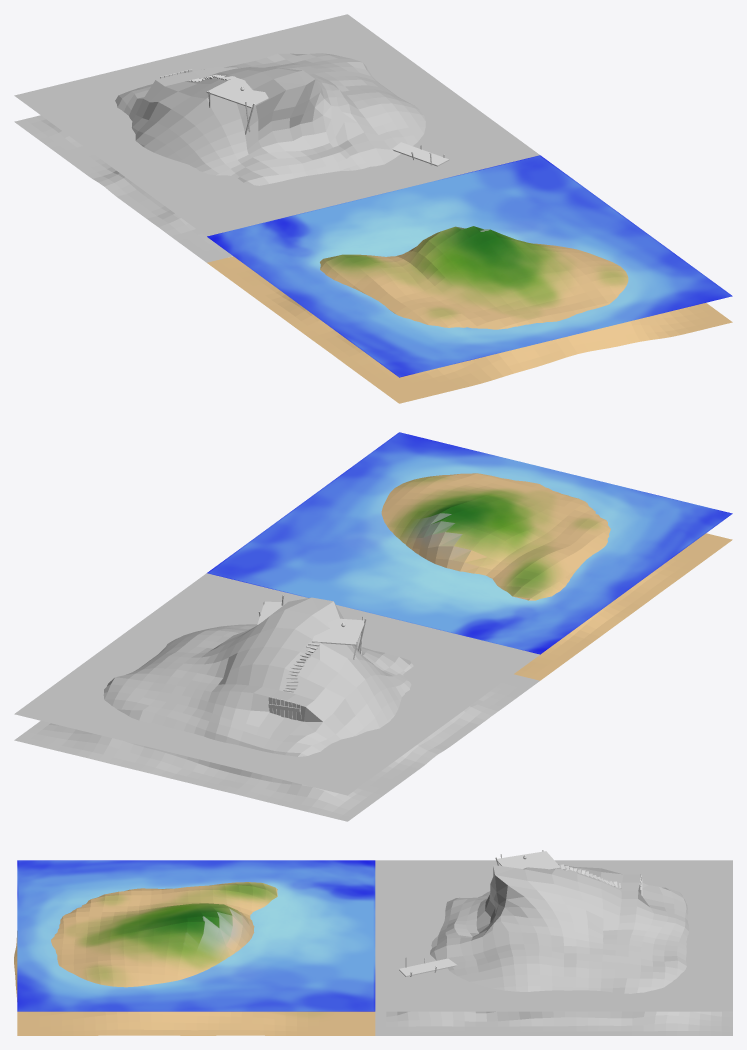
The model's file is islands_v3.fbx.
The picture shows the model from 3 angles, top to bottom: view 1: azimuth 30°, elevation 25°; view 2: azimuth 150°, elevation 25°; view 3: azimuth 270°, elevation 25°; orthographic projection. The views are drawn at different scales.
Parts seen in each view (by area): view 1: water2, water1, island_2, island_1, lookout deck; view 2: water2, island_1, water1, island_2, lookout deck; view 3: water2, island_1, water1, island_2, lookout deck, dock.
Part boxes in pixels (x1,y1,x2,y2): water2: (207,155,732,377); water1: (14,14,539,236); island_2: (207,226,732,403); island_1: (14,53,425,262); lookout deck: (206,77,268,107); water2: (207,432,732,654); island_1: (14,597,539,821); water1: (14,573,539,795); island_2: (381,473,732,680); lookout deck: (312,618,364,645); water2: (17,860,375,1011); island_1: (375,864,732,1035); water1: (375,860,732,1011); island_2: (14,882,375,1035); lookout deck: (497,851,560,869); dock: (399,958,456,976).
Size of the model in its own units: 20005 by 5337 by 40188.
